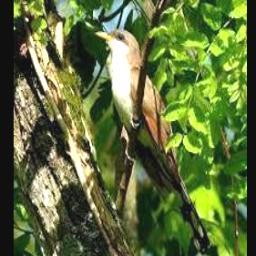Cuckoo: (95, 28, 209, 253)
